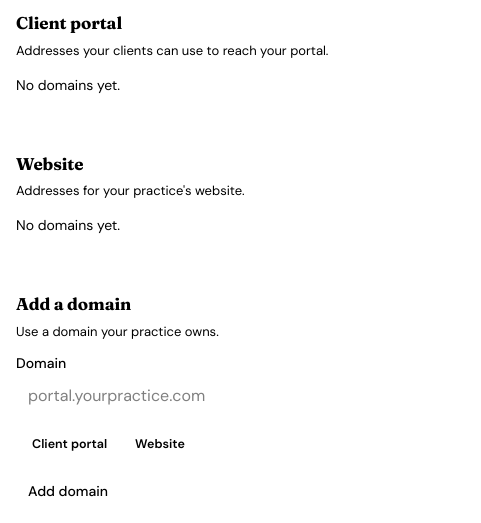
Scenario: DomainsPage › shows the server's reason when a domain can't be added
This screenshot has width=481, height=523.
Type "taken.example.com" into the field labelled "Domain" at (240, 396), box [16,378,464,414]
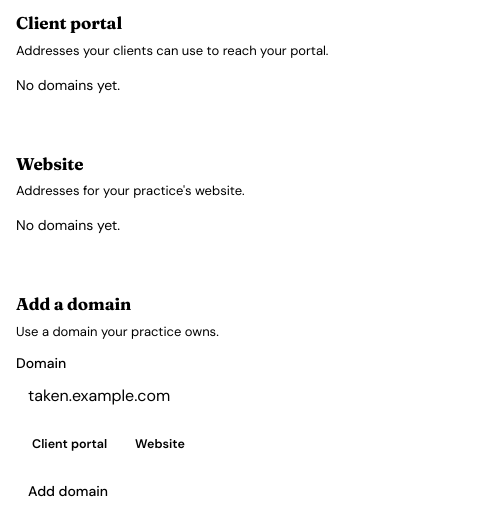
Click the button "Add domain" at (68, 491), box [16,475,120,507]
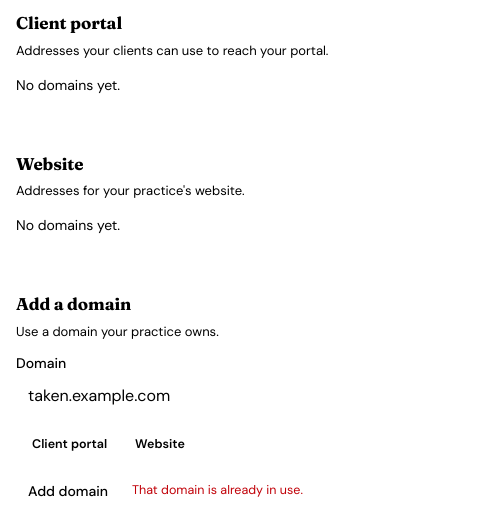
Expected: the message reads "That domain is already in use.", [132,482,303,498]
